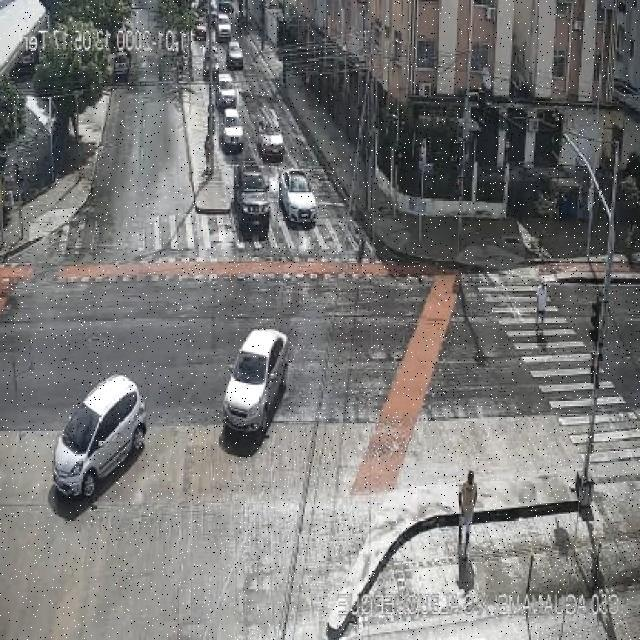Car: (52, 374, 147, 504), (221, 327, 289, 439), (233, 158, 272, 236), (279, 169, 318, 226), (222, 107, 244, 150), (216, 72, 238, 109), (228, 41, 245, 69), (112, 51, 130, 77)
Van: (214, 13, 232, 42)
